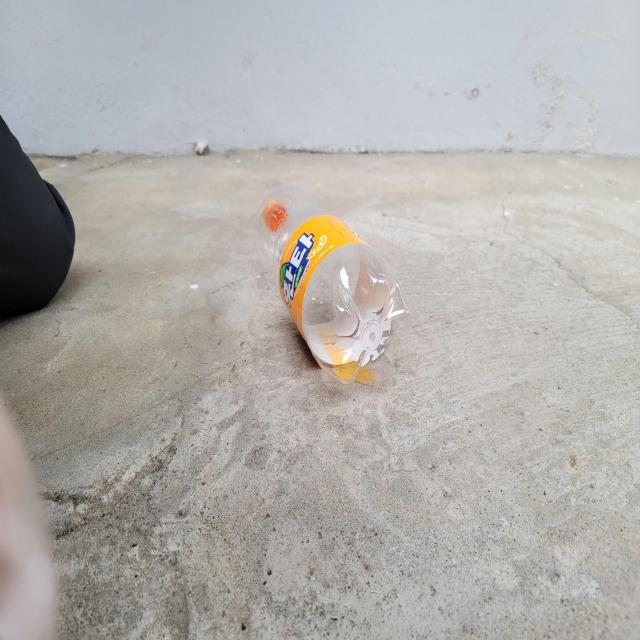plastic: (256, 185, 412, 384)
